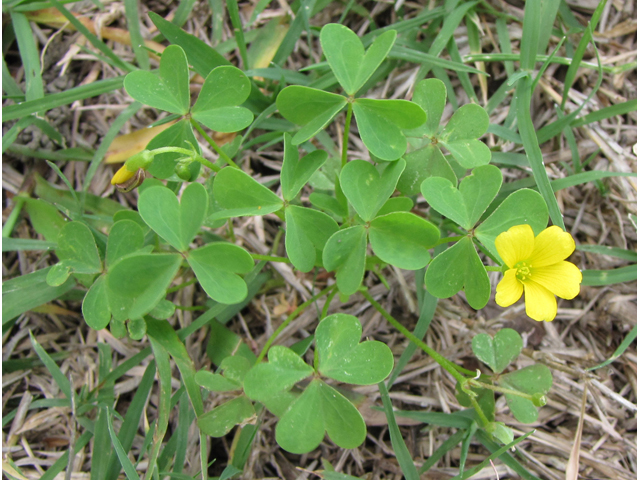oxalis: (36, 61, 565, 432)
